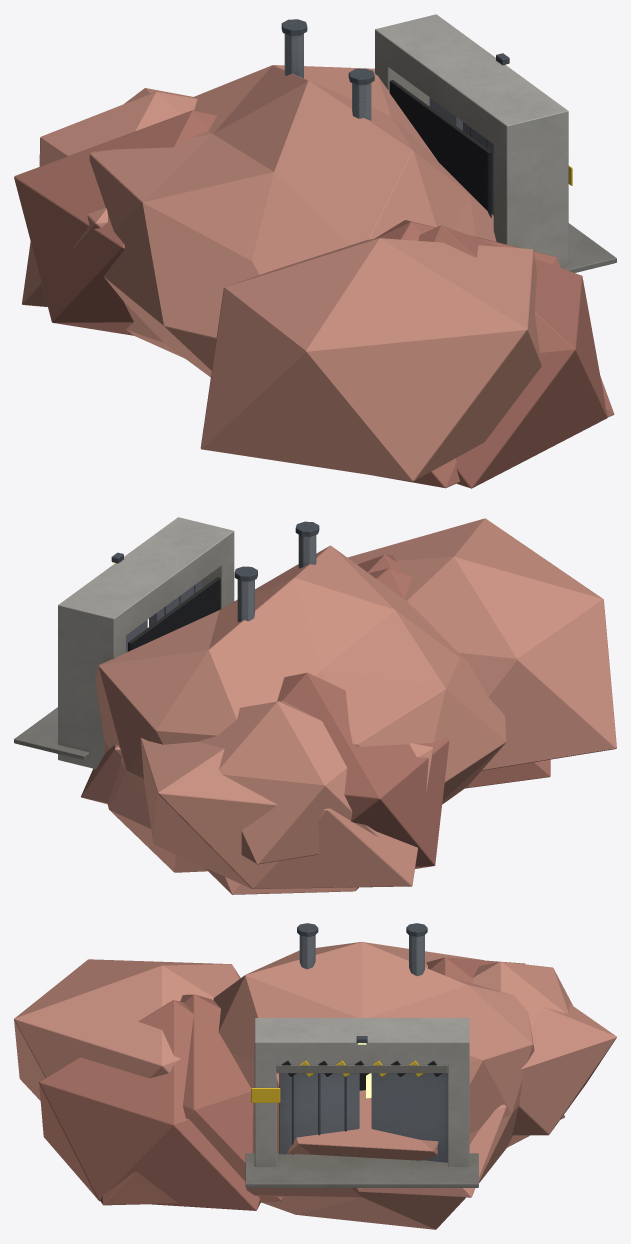
File: bergrum_tex.glb
The picture shows the model from 3 angles, top to bottom: view 1: azimuth 30°, elevation 25°; view 2: azimuth 150°, elevation 25°; view 3: azimuth 270°, elevation 25°; orthographic projection. The views are drawn at different scales.
Visible parts, largest first — view 1: bergrum; view 2: bergrum; view 3: bergrum.
Part boxes in pixels (box(x1,y1,x2,y2)): bergrum: box(14, 14, 616, 488); bergrum: box(14, 517, 616, 894); bergrum: box(14, 923, 616, 1229).
Size of the model in its own units: 24.09 by 16.83 by 33.09.
Materials: 9 (5 with a texture image).
